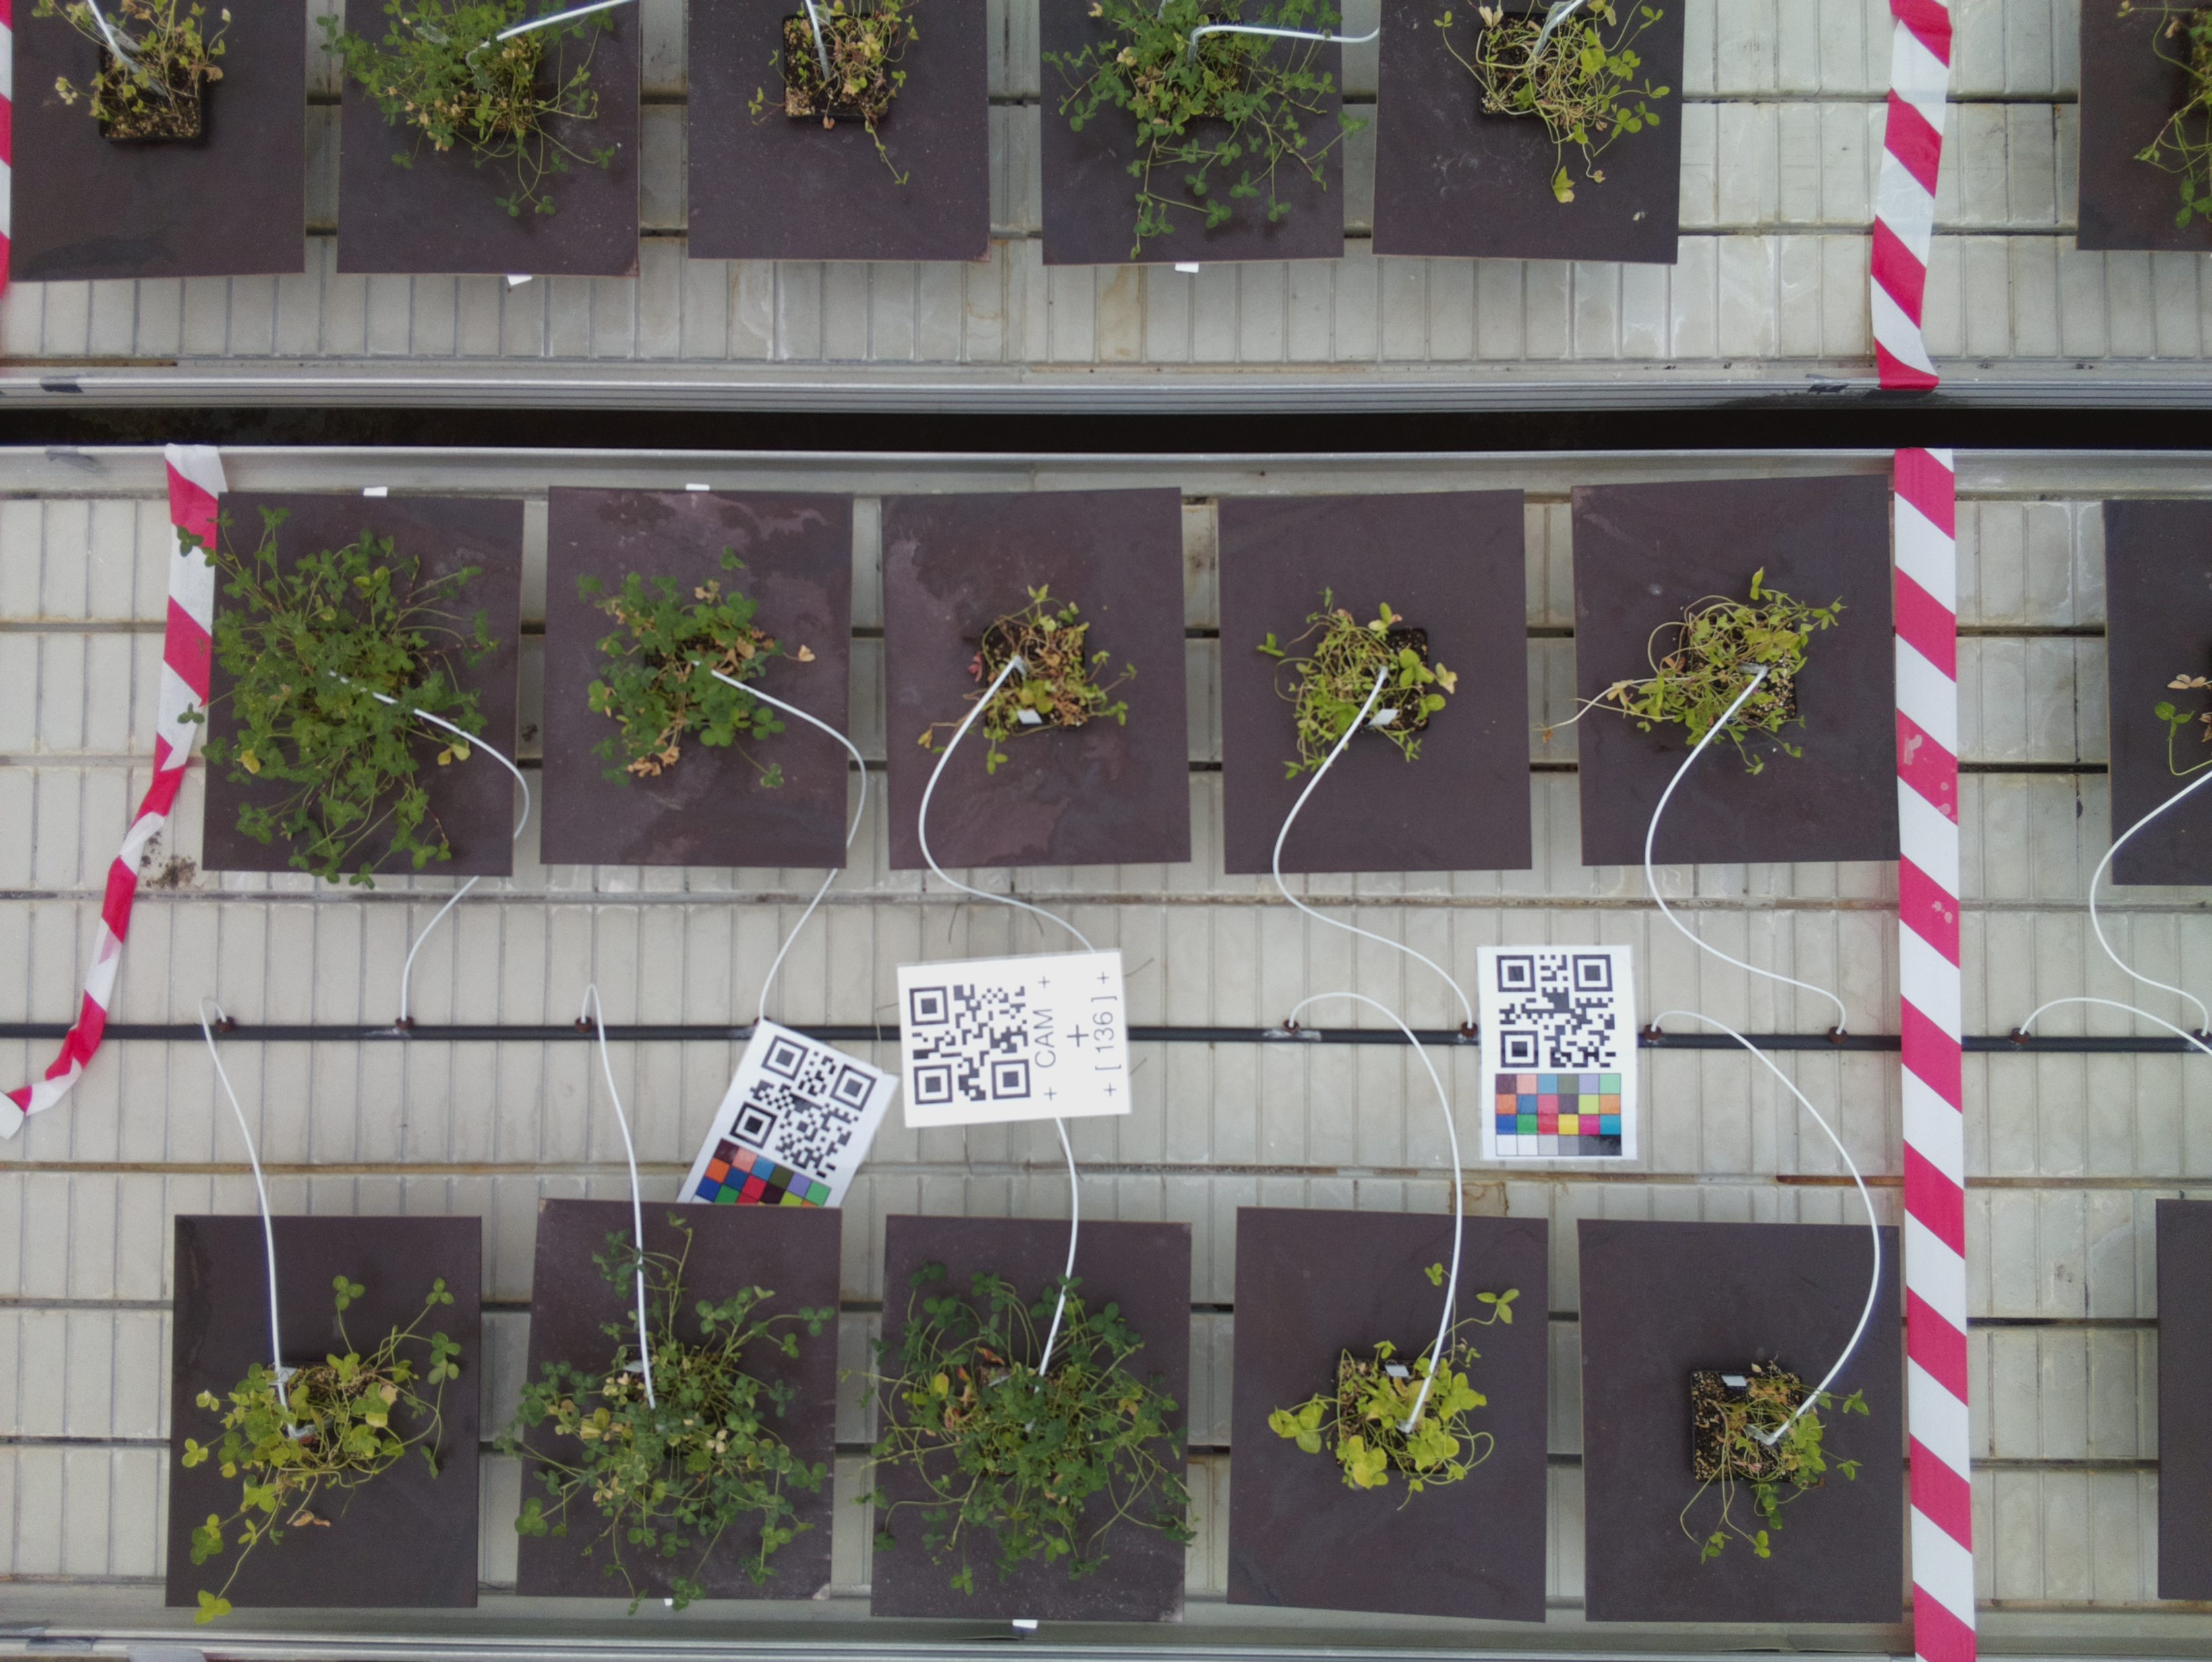POT: (1580, 1217, 1908, 1625), (1231, 1208, 1545, 1625), (1575, 485, 1901, 864), (882, 1220, 1178, 1622), (1220, 496, 1531, 873), (180, 1215, 478, 1606), (215, 491, 517, 876), (546, 484, 843, 873), (539, 1203, 829, 1599), (887, 499, 1189, 864)
QRCODE: (896, 943, 1138, 1133)
QRCOLOR: (1475, 946, 1638, 1163)
